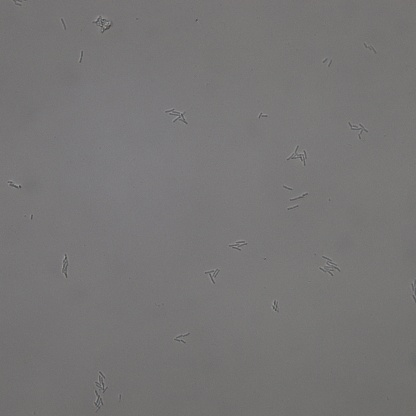R(colony): (318, 256, 341, 277), (286, 145, 307, 167), (165, 106, 188, 124), (348, 121, 368, 139), (95, 372, 109, 392), (204, 268, 220, 285), (229, 239, 250, 251), (93, 394, 105, 413), (174, 333, 190, 344)
